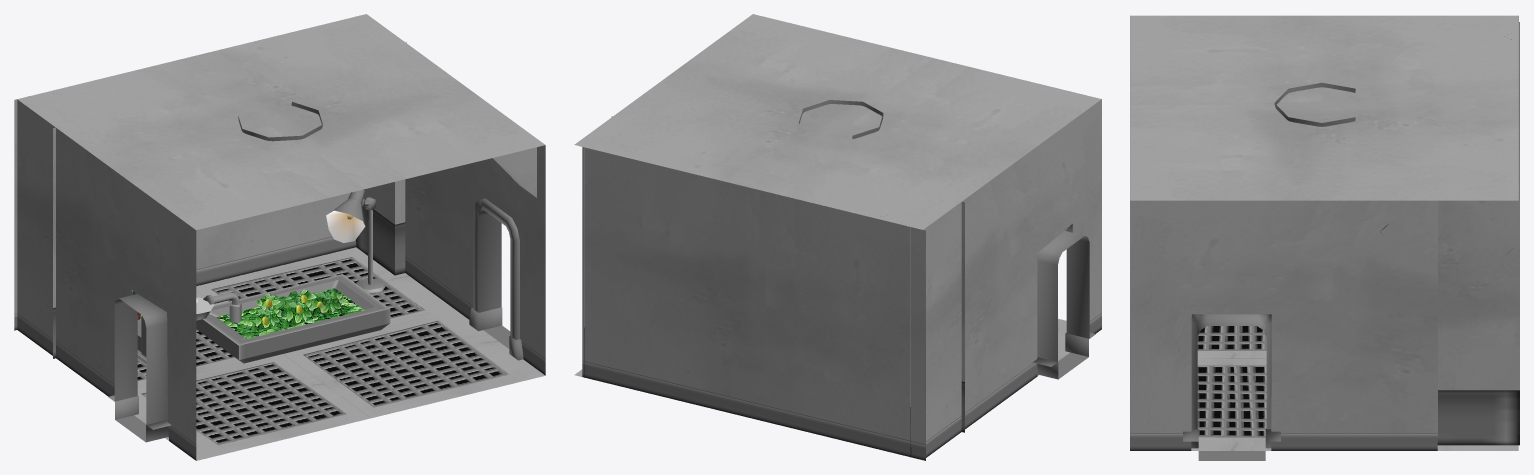
Rendered from MSH_Hydroponic_farm_room_L1_R1_optimized.fbx.
The picture shows the model from 3 angles, left to right: view 1: azimuth 30°, elevation 25°; view 2: azimuth 150°, elevation 25°; view 3: azimuth 270°, elevation 25°; orthographic projection. The views are drawn at different scales.
Visible parts, largest first — view 1: lightmap1, lightmap0, lightmap-1; view 2: lightmap1, lightmap-1, lightmap0; view 3: lightmap1, lightmap-1, lightmap0.
Boxes of the visible parts, <box> form: lightmap1: <box>14,14,545,460</box>; lightmap0: <box>53,93,390,363</box>; lightmap-1: <box>114,209,510,442</box>; lightmap1: <box>574,14,1101,460</box>; lightmap-1: <box>1037,230,1089,379</box>; lightmap0: <box>798,100,887,216</box>; lightmap1: <box>1130,15,1519,450</box>; lightmap-1: <box>1197,314,1266,460</box>; lightmap0: <box>1274,33,1512,263</box>.
Bounding box in the file's own units: 10.3 × 5.97 × 8.28.
